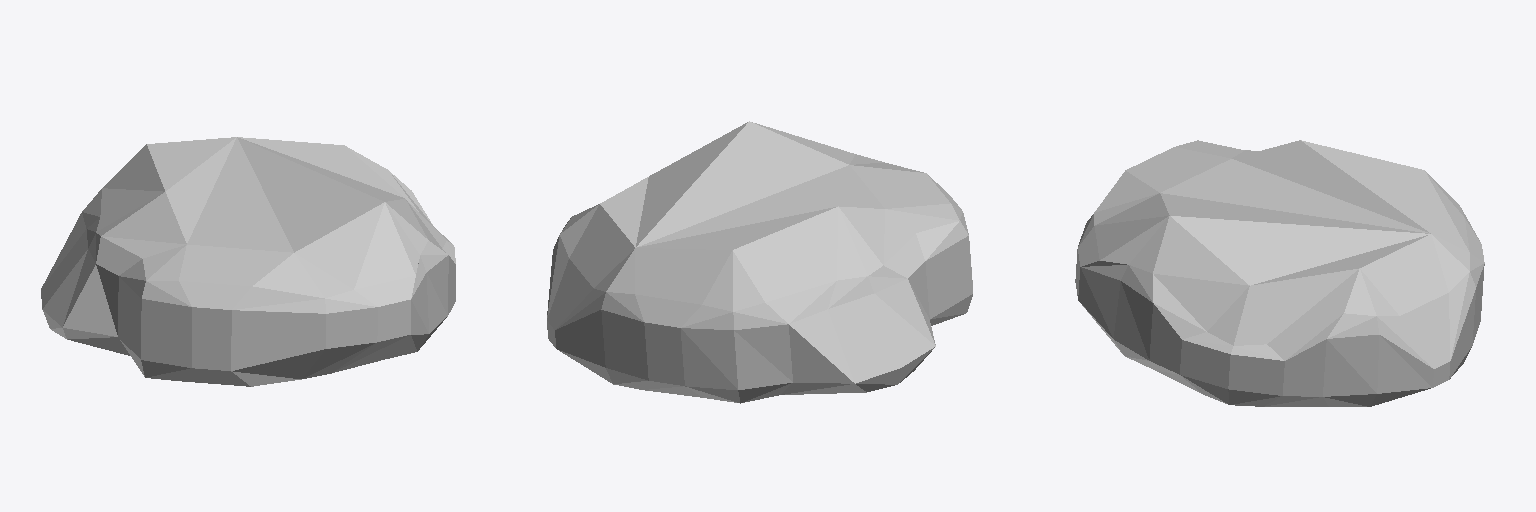
The model's file is roche_3.obj.
3 views of the same model, side by side, from view 1: azimuth 30°, elevation 25°; view 2: azimuth 150°, elevation 25°; view 3: azimuth 270°, elevation 25° (orthographic).
Parts seen in each view (by area): view 1: Cylinder.008; view 2: Cylinder.008; view 3: Cylinder.008.
Part boxes in pixels (left/top/right/bottom): Cylinder.008: left=41, top=137, right=455, bottom=386; Cylinder.008: left=547, top=121, right=972, bottom=403; Cylinder.008: left=1075, top=140, right=1484, bottom=406.
Size of the model in its own units: 1.06 by 0.4303 by 1.04.